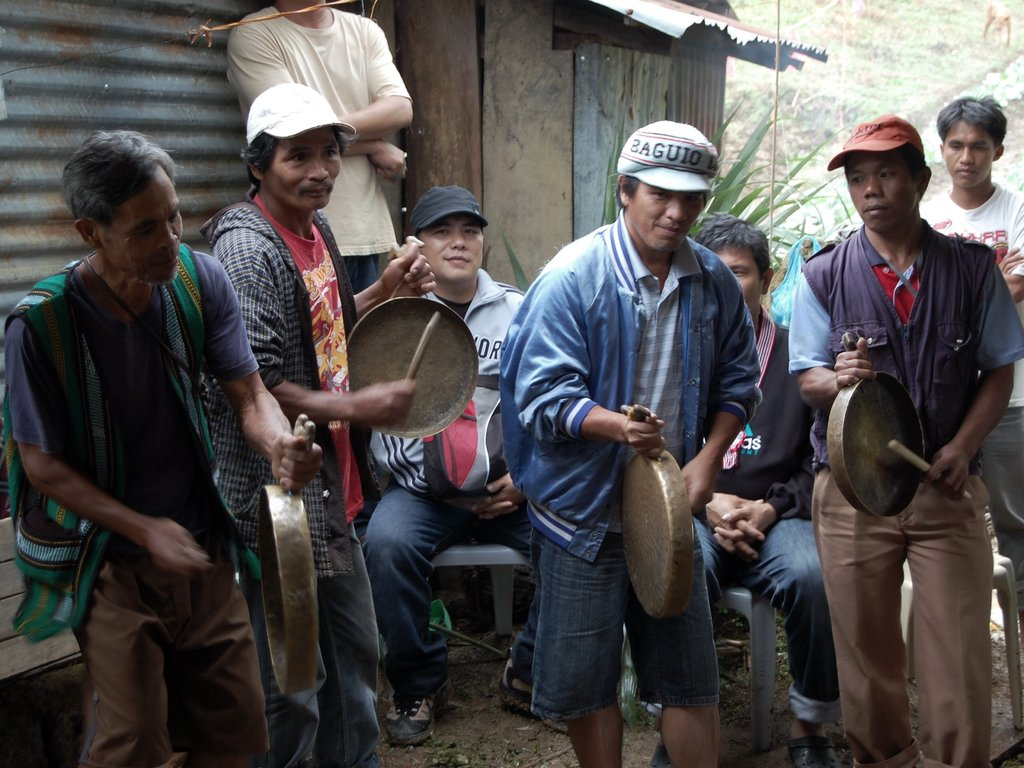face: (104, 173, 186, 284)
